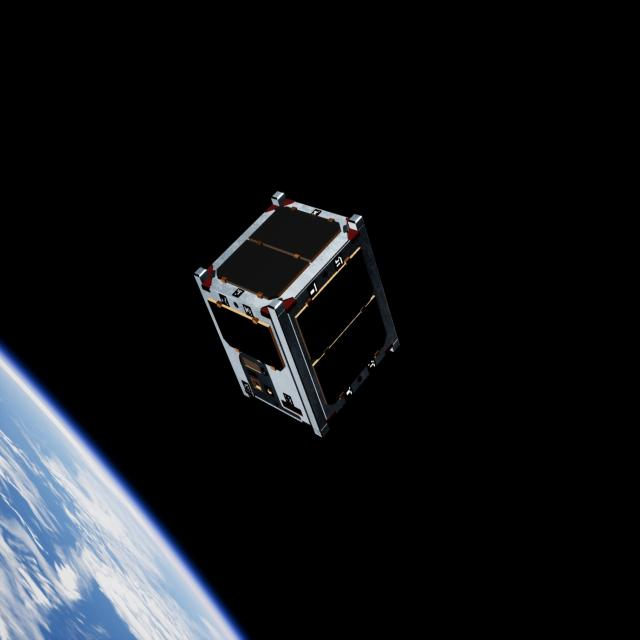satellite: (198, 185, 410, 442)
